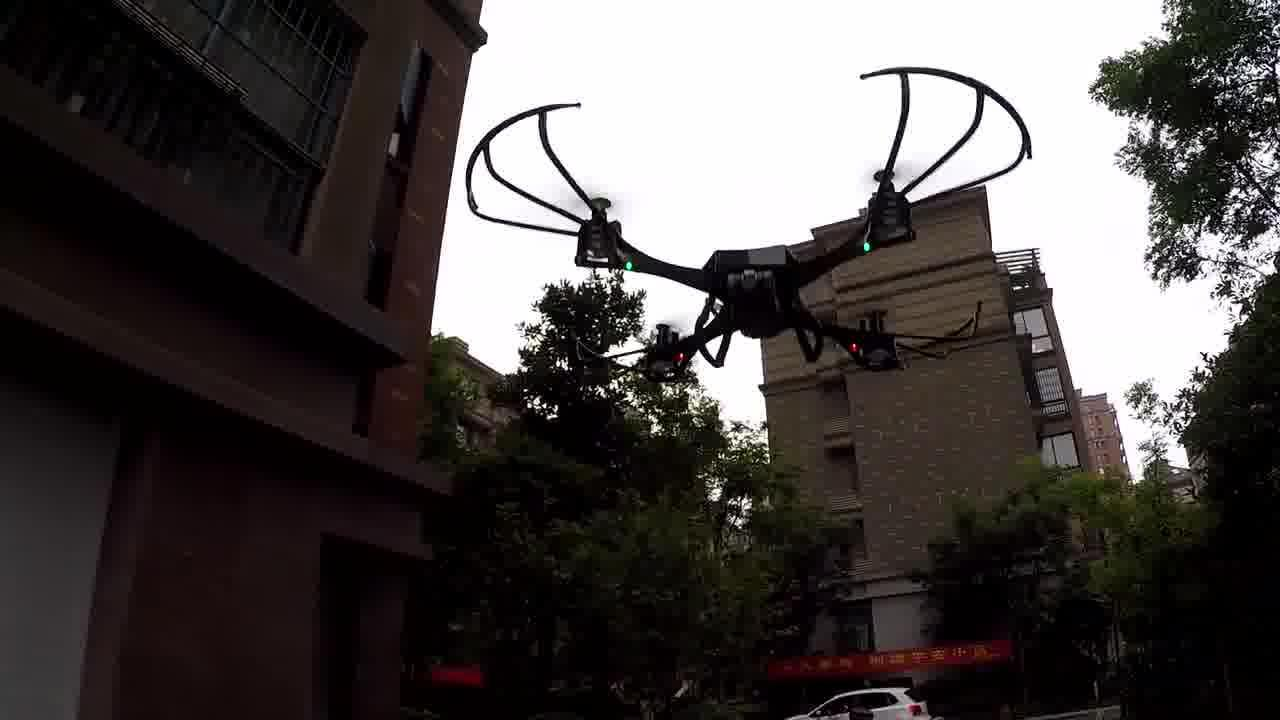drone: (446, 56, 1037, 445)
